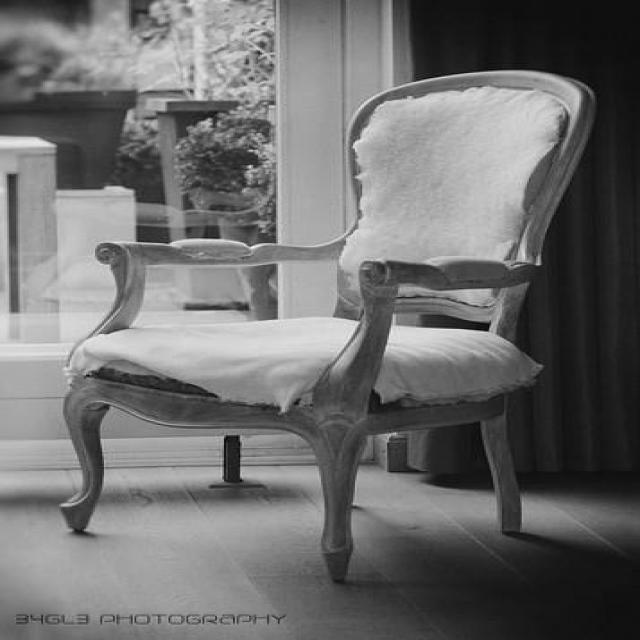chair: (52, 67, 605, 588)
